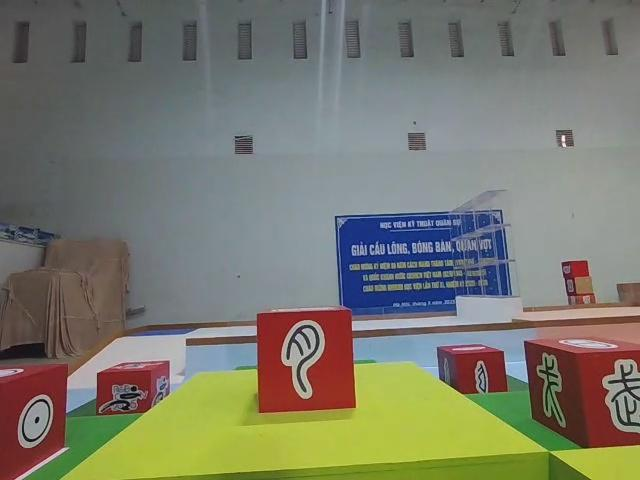R1: (95, 357, 173, 417)
R2 Fake: (520, 333, 640, 451), (253, 304, 358, 415)
R2 Real: (0, 359, 69, 480), (435, 341, 510, 399)
